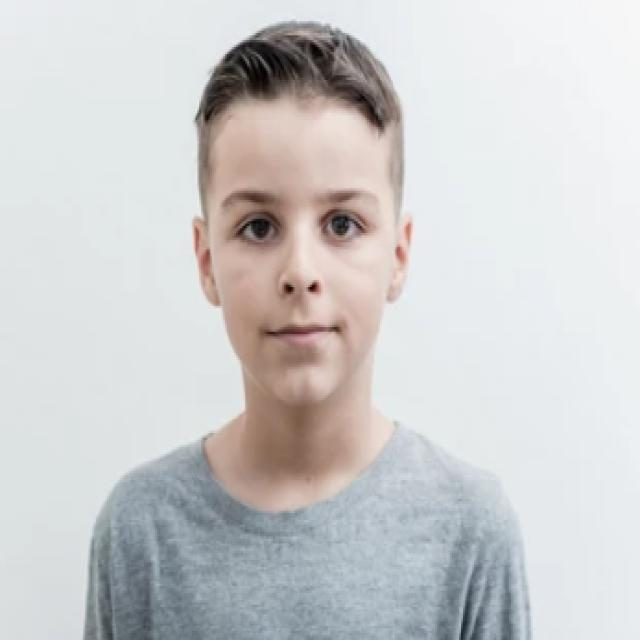face_no_mask: (192, 99, 412, 405)
